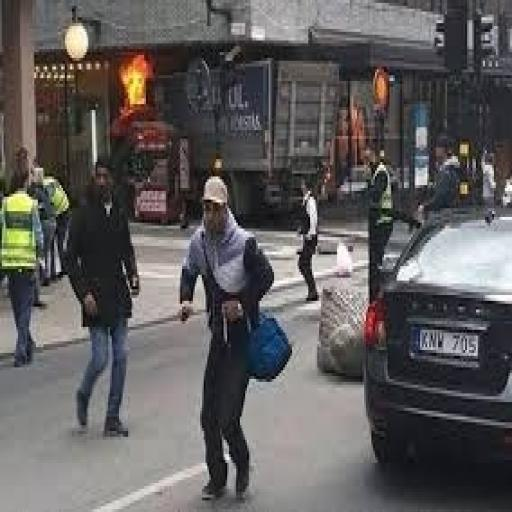running: (176, 171, 278, 503), (62, 153, 142, 443), (0, 142, 47, 370)
